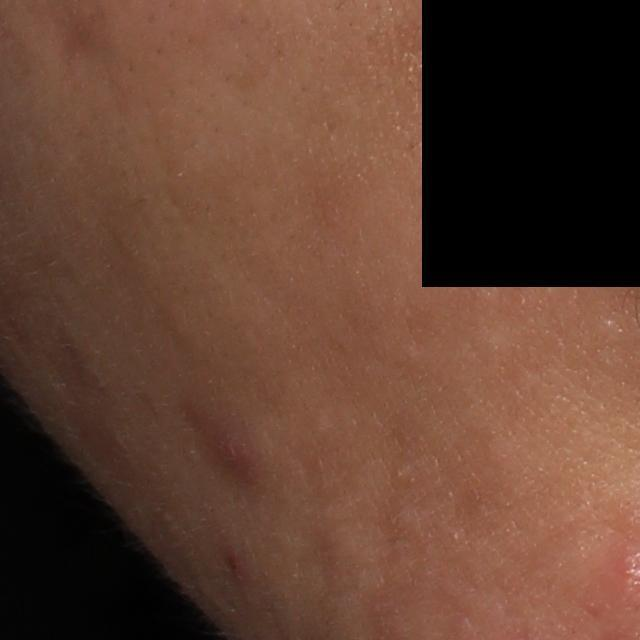papule: (208, 430, 263, 483)
